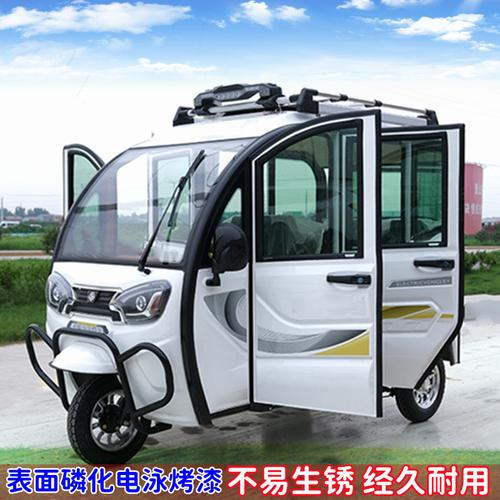empty: (17, 77, 472, 470)
